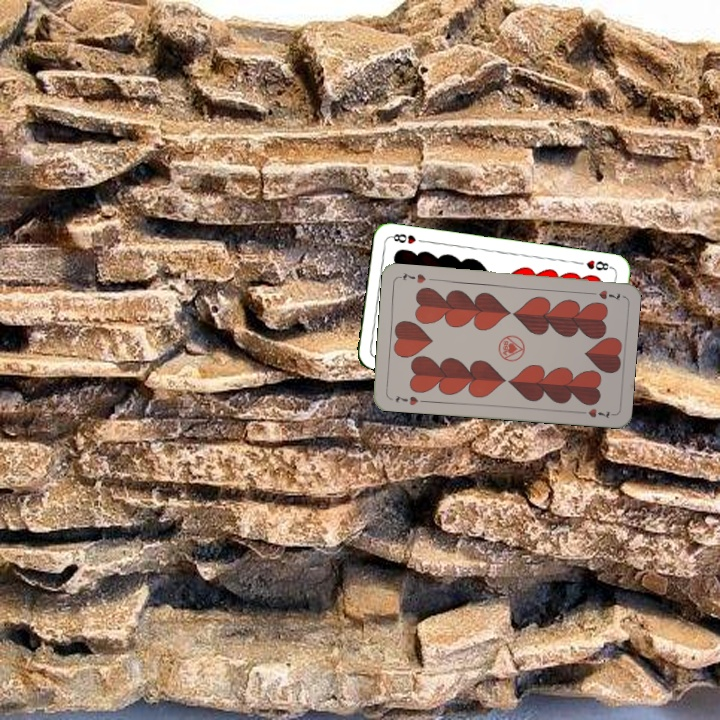H7: (584, 286, 623, 303), (392, 391, 421, 408)
H8: (582, 256, 615, 273)
